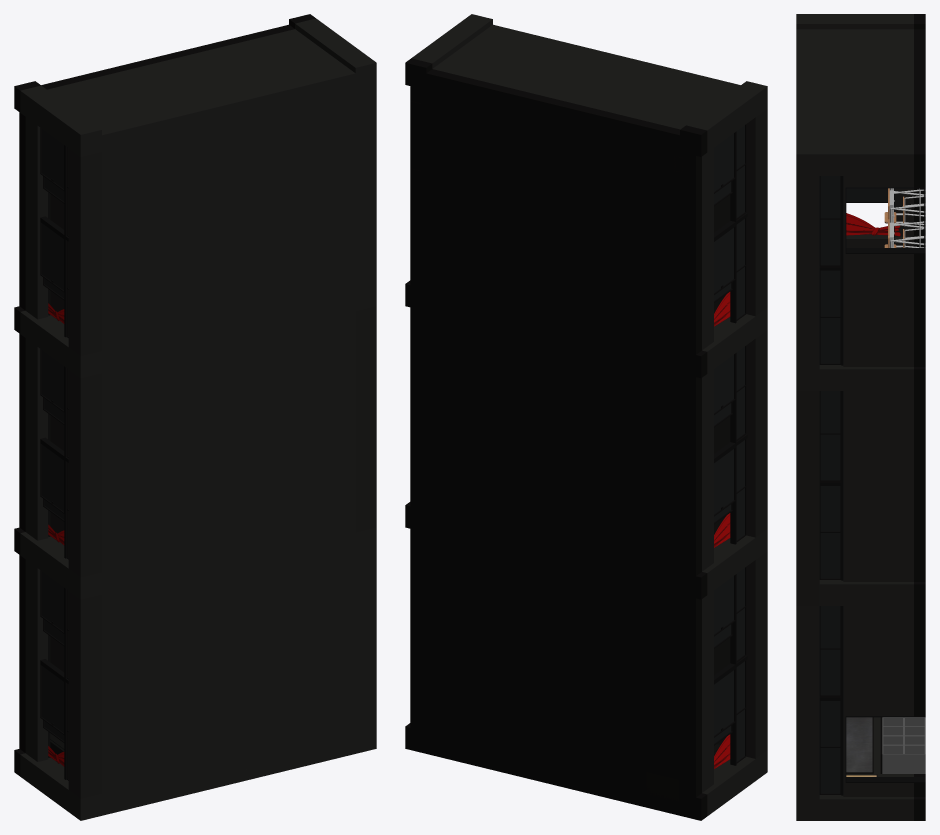
Rendered from classroom.obj.
3 renders of one model, left to right at view 1: azimuth 30°, elevation 25°; view 2: azimuth 150°, elevation 25°; view 3: azimuth 270°, elevation 25°, orthographic. The views are drawn at different scales.
Parts seen in each view (by area): view 1: Chair.015_[Color_C14]_0; view 2: Chair.015_[Color_C14]_0; view 3: Chair.015_[Color_C14]_0.
Boxes of the visible parts, bbox=[...] form: Chair.015_[Color_C14]_0: bbox=[14, 14, 376, 820]; Chair.015_[Color_C14]_0: bbox=[405, 14, 767, 820]; Chair.015_[Color_C14]_0: bbox=[796, 14, 925, 820].
Bounding box in the file's own units: 8.53 × 18.9 × 3.33.
Materials: 1 (1 with a texture image).
